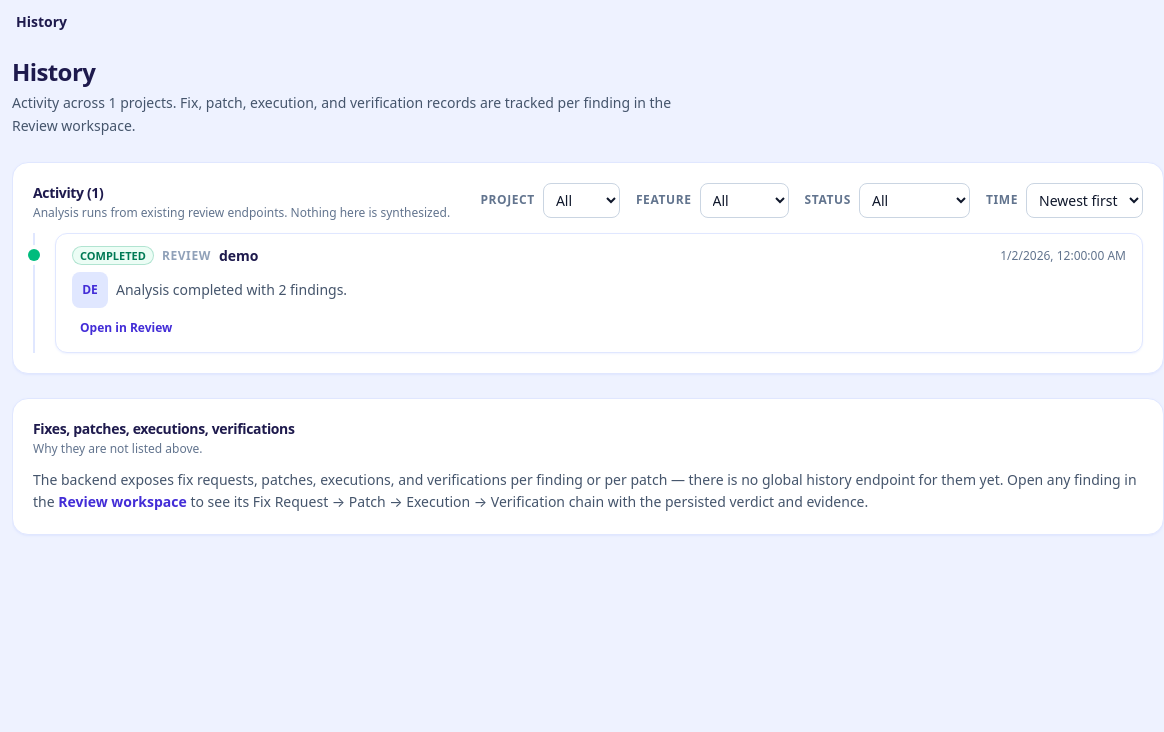
HistoryPage › filters the timeline by status
The width and height of the screenshot is (1164, 732).
Check: the text "Analysis completed with 2 findings." is shown, box [116,280,347,300]
Select "Failed" in the dropdown named "Filter history by status". click: (914, 200)
box: [859,182,970,218]
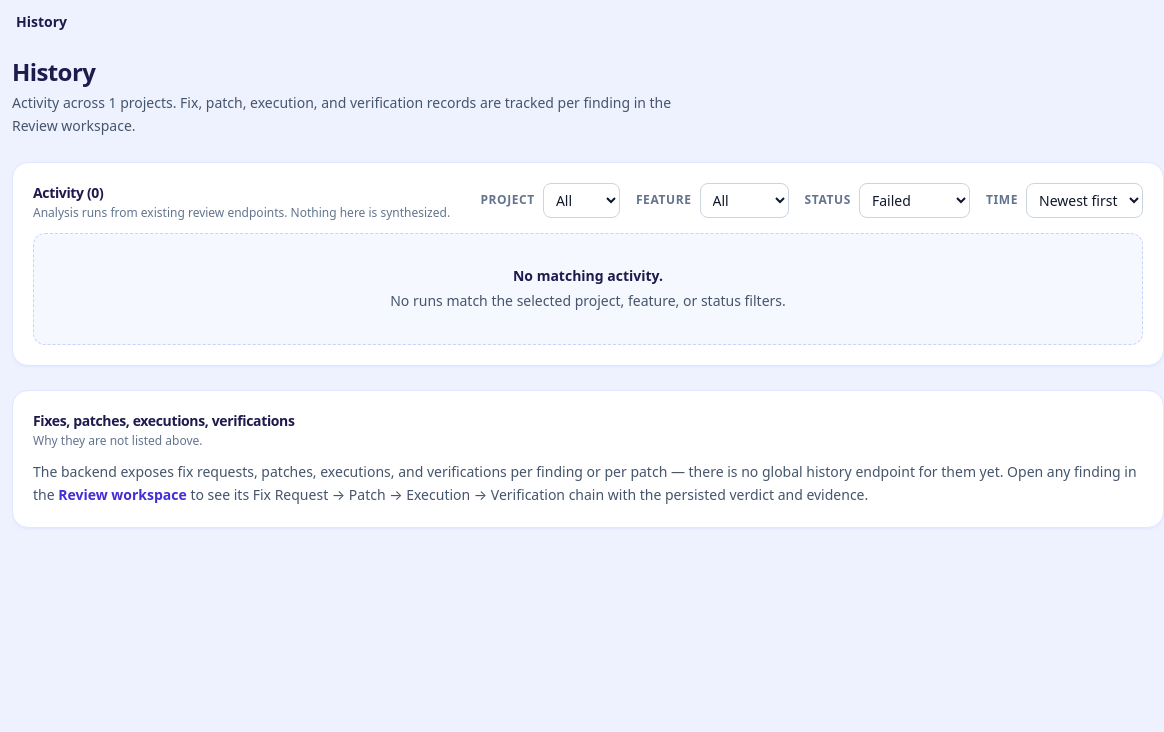
Check: the text "No matching activity." is shown, box [513,266,663,284]
